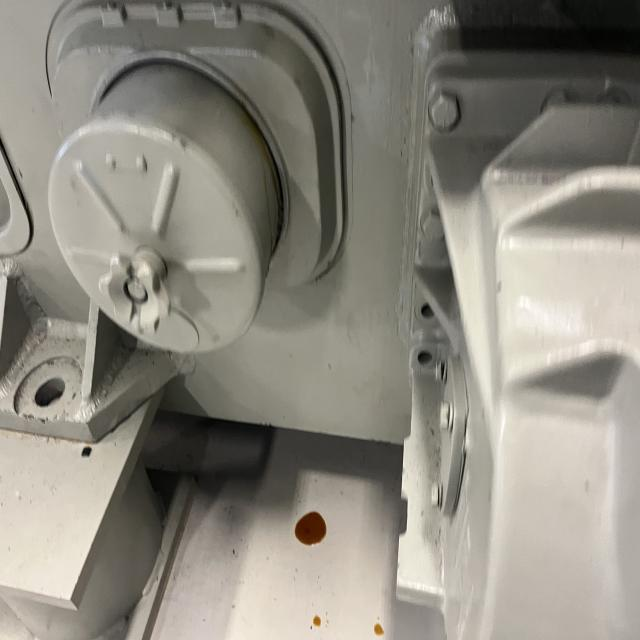Oil Leak: (289, 507, 334, 552), (372, 622, 385, 637), (313, 615, 321, 627)
